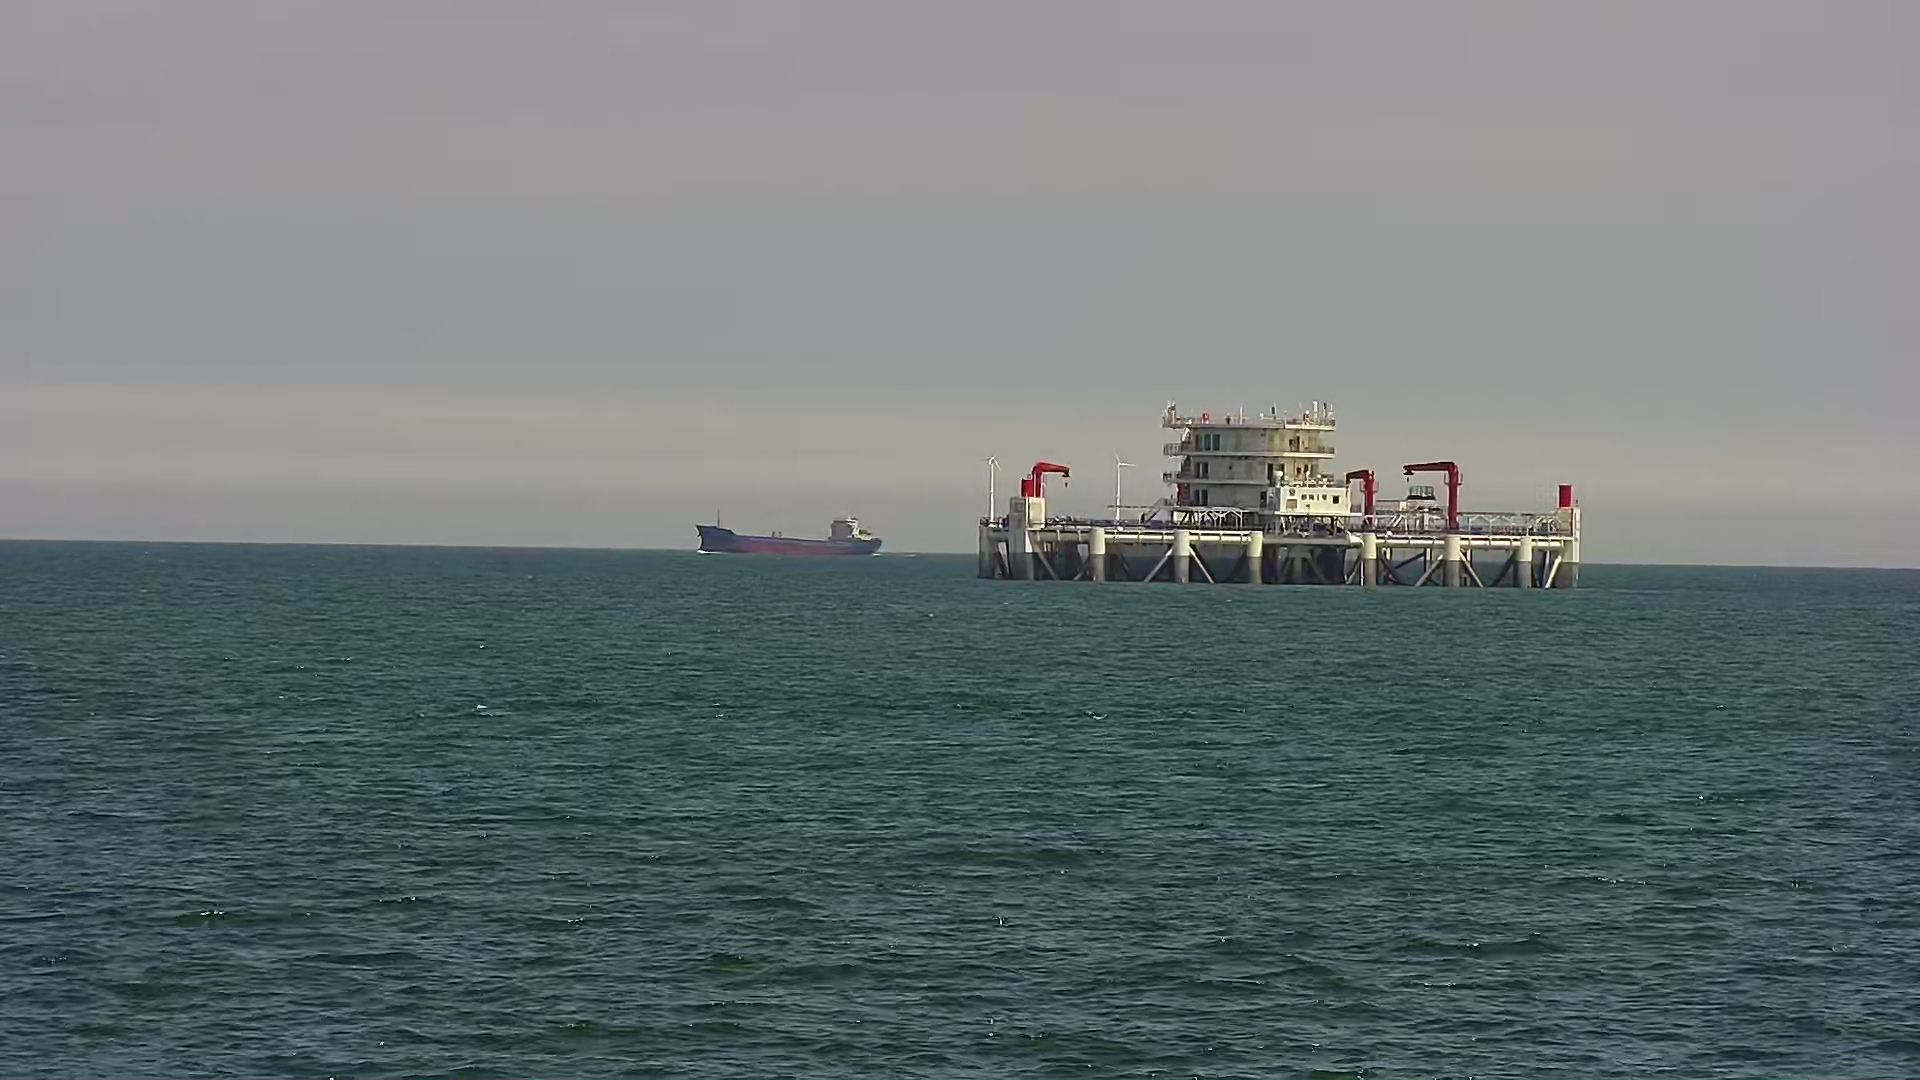platform: (951, 388, 1651, 597)
ship: (690, 497, 886, 566)
